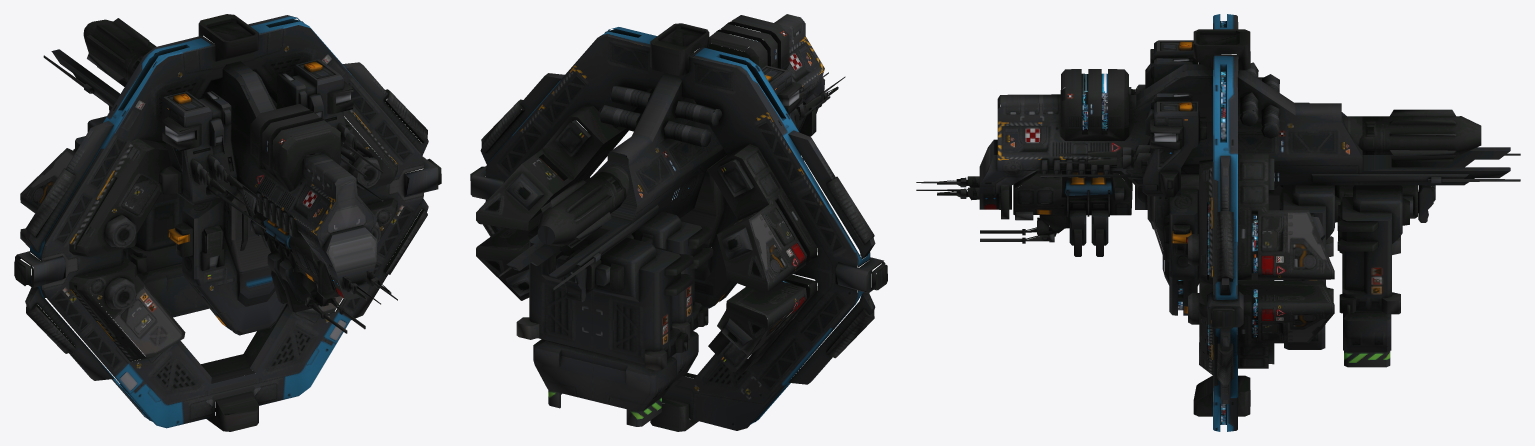
3 views of the same model, side by side, from view 1: azimuth 30°, elevation 25°; view 2: azimuth 150°, elevation 25°; view 3: azimuth 270°, elevation 25° (orthographic). The views are drawn at different scales.
Parts seen in each view (by area): view 1: p1_op; view 2: p1_op; view 3: p1_op.
Boxes of the visible parts, x1,y1,x2,y2 form: p1_op: [14, 14, 441, 431]; p1_op: [470, 14, 887, 431]; p1_op: [916, 14, 1520, 431].
Bounding box in the file's own units: 24.33 × 21.82 × 32.24.
Materials: 1 (1 with a texture image).
